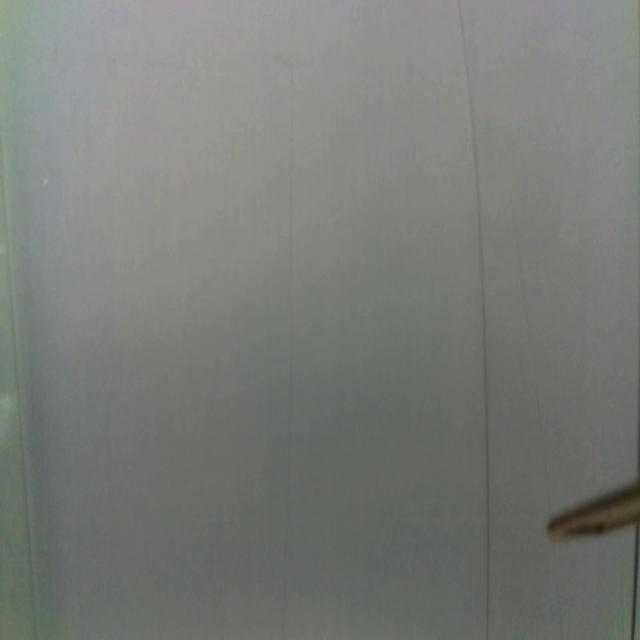crease: (457, 2, 492, 640), (0, 151, 38, 640), (279, 42, 296, 640), (518, 238, 552, 518), (629, 520, 640, 640)
